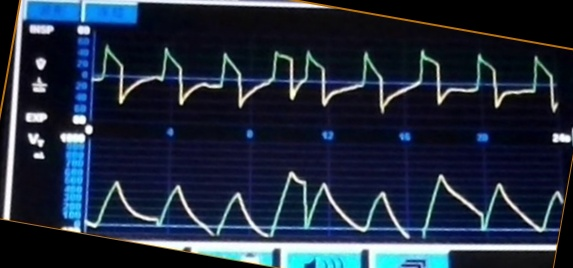Double_Triggering Flow: (99, 40, 519, 112)
Double_Triggering Volume: (87, 164, 540, 237)
